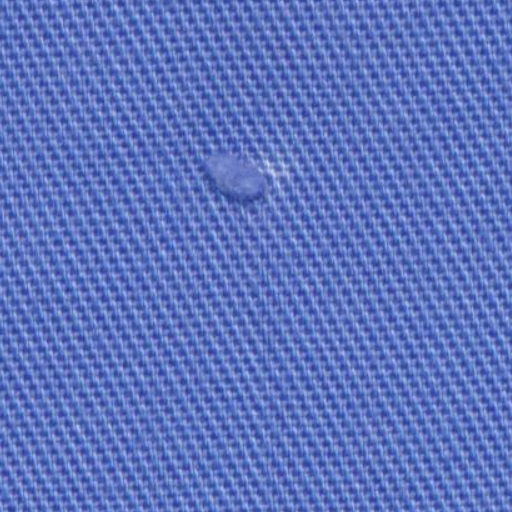MianQiu: (180, 131, 282, 222)
